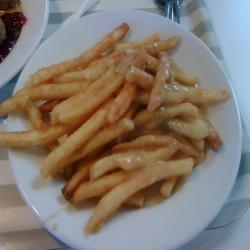fries: (39, 57, 193, 193)
